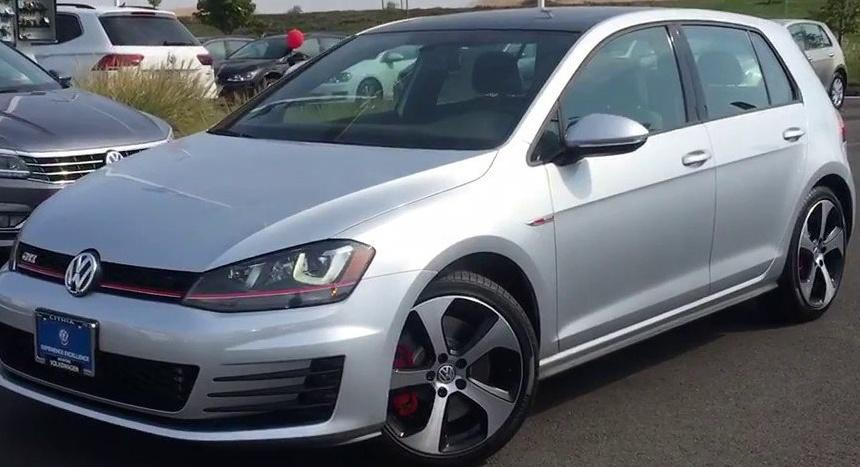Cars: (0, 8, 860, 464)
